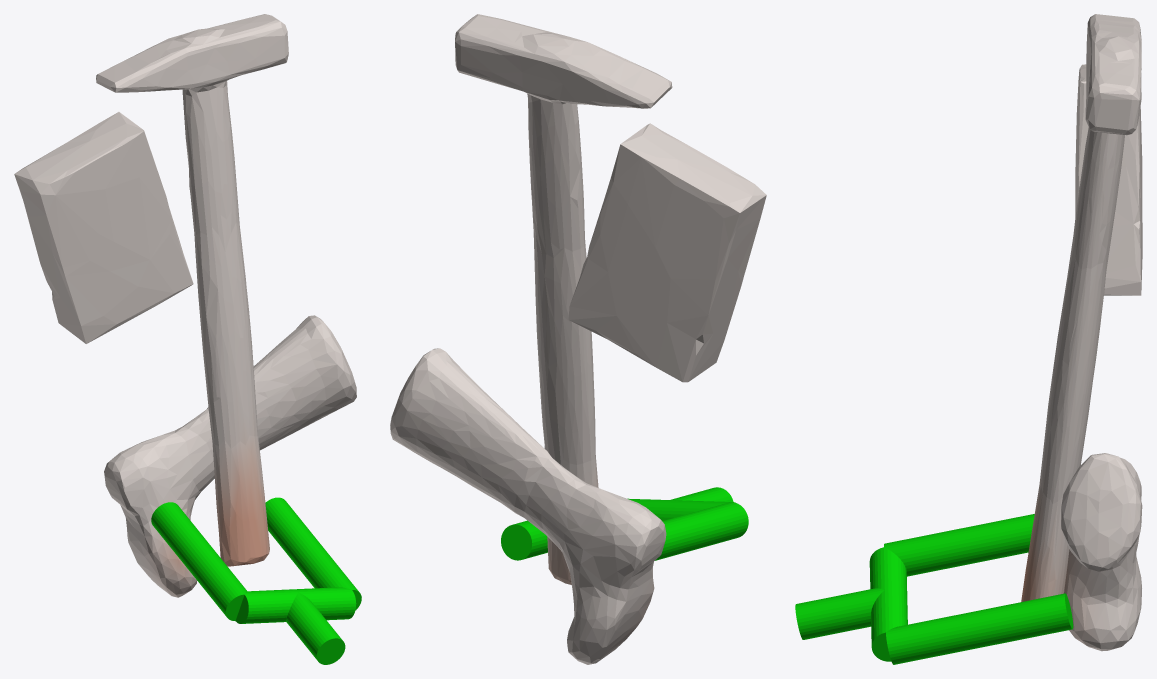
File: round_000_trial_002.obj
3 renders of one model, left to right at view 1: azimuth 30°, elevation 25°; view 2: azimuth 150°, elevation 25°; view 3: azimuth 270°, elevation 25°, orthographic. The views are drawn at different scales.
Parts seen in each view (by area): view 1: geometry_0, geometry_1; view 2: geometry_0, geometry_1; view 3: geometry_0, geometry_1.
Part boxes in pixels (<box>): geometry_0: <box>14,14,356,597</box>; geometry_1: <box>151,497,361,664</box>; geometry_0: <box>390,14,766,664</box>; geometry_1: <box>501,487,748,560</box>; geometry_0: <box>1021,14,1142,651</box>; geometry_1: <box>795,514,1073,664</box>.
Bounding box in the file's own units: 0.1144 × 0.187 × 0.0944.
